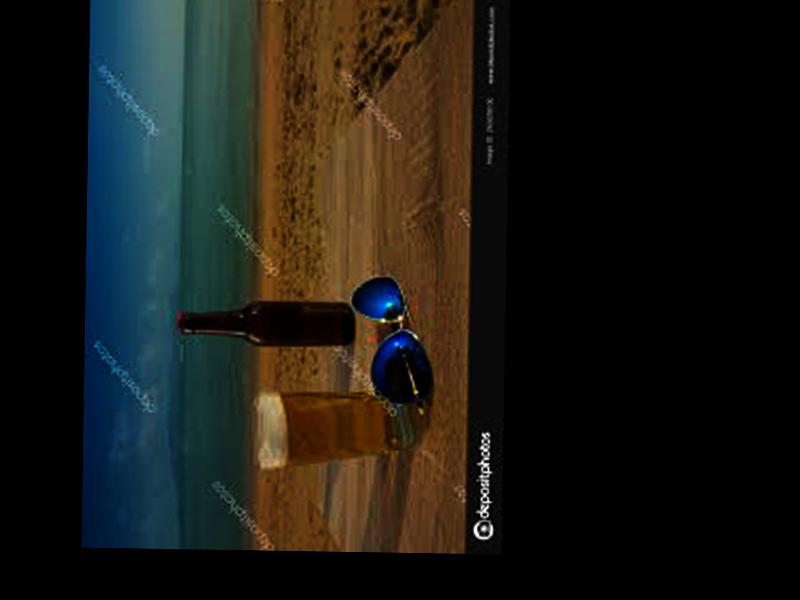Beer: (177, 299, 352, 347)
